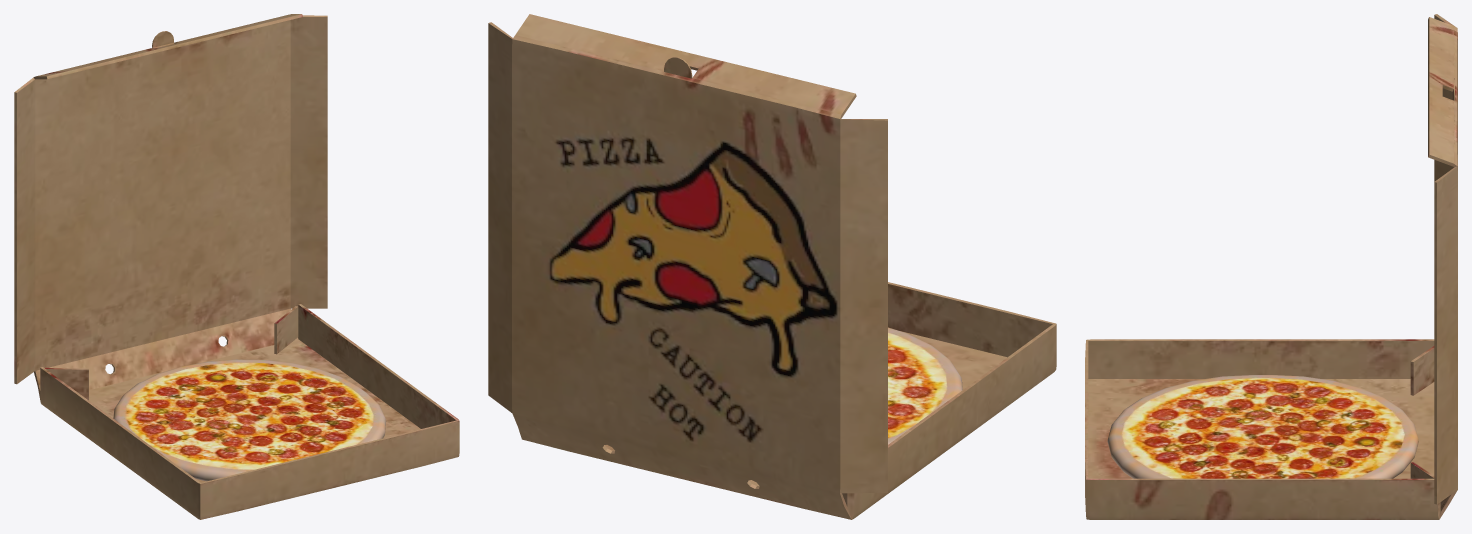
Rendered from pizza.glb.
The picture shows the model from 3 angles, left to right: view 1: azimuth 30°, elevation 25°; view 2: azimuth 150°, elevation 25°; view 3: azimuth 270°, elevation 25°; orthographic projection. The views are drawn at different scales.
Parts seen in each view (by area): view 1: Plane_Material.001_0, Plane.002_Material.003_0; view 2: Plane_Material.001_0, Plane.002_Material.003_0; view 3: Plane_Material.001_0, Plane.002_Material.003_0.
Boxes of the visible parts, bbox=[...] form: Plane_Material.001_0: bbox=[14, 14, 459, 519]; Plane.002_Material.003_0: bbox=[113, 359, 386, 481]; Plane_Material.001_0: bbox=[488, 14, 1056, 519]; Plane.002_Material.003_0: bbox=[888, 327, 962, 444]; Plane_Material.001_0: bbox=[1085, 14, 1457, 519]; Plane.002_Material.003_0: bbox=[1107, 375, 1418, 478].
Bounding box in the file's own units: 2.28 × 2.34 × 2.13.
Materials: 2 (2 with a texture image).
